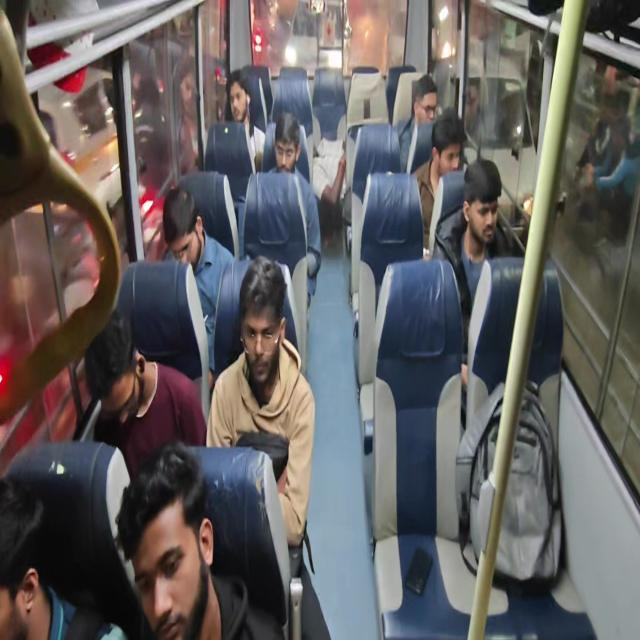person: (118, 506, 233, 640), (455, 152, 528, 320), (0, 542, 88, 640), (226, 253, 272, 381), (92, 321, 146, 404), (425, 100, 469, 189), (311, 117, 346, 198), (165, 196, 205, 264), (230, 66, 264, 132), (267, 117, 295, 174), (414, 78, 444, 124)
